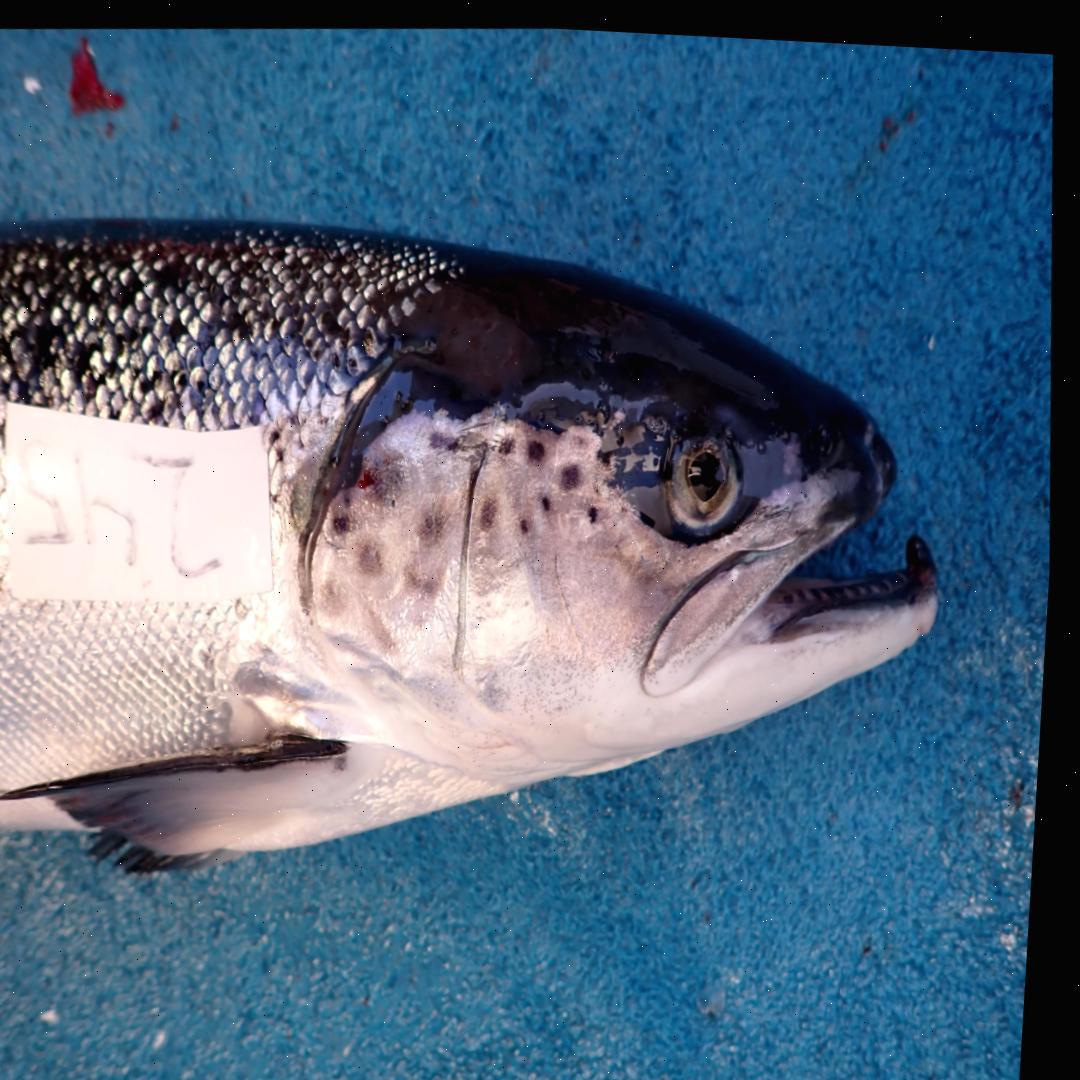spot: (375, 451, 405, 496), (364, 538, 389, 572), (410, 562, 442, 587), (424, 506, 449, 535), (565, 457, 585, 483), (531, 432, 550, 457), (486, 493, 501, 524), (434, 428, 462, 444), (337, 511, 354, 529), (504, 429, 519, 448), (525, 512, 534, 528), (593, 500, 602, 514), (546, 490, 555, 504)
